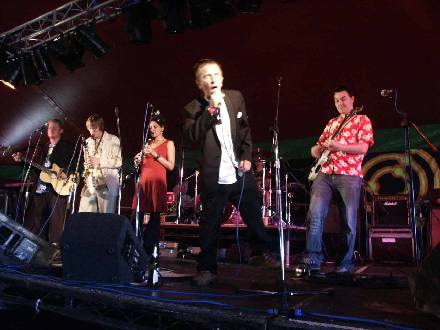person: (301, 85, 375, 277), (13, 117, 75, 245), (133, 109, 178, 226), (76, 114, 127, 215)
